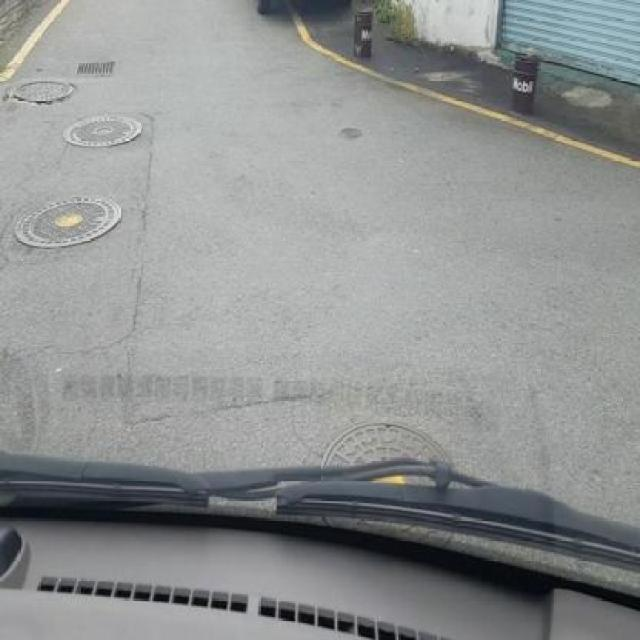Manhole: (314, 427, 462, 501), (16, 190, 125, 250), (63, 116, 151, 152), (5, 78, 78, 106), (75, 57, 118, 77)
